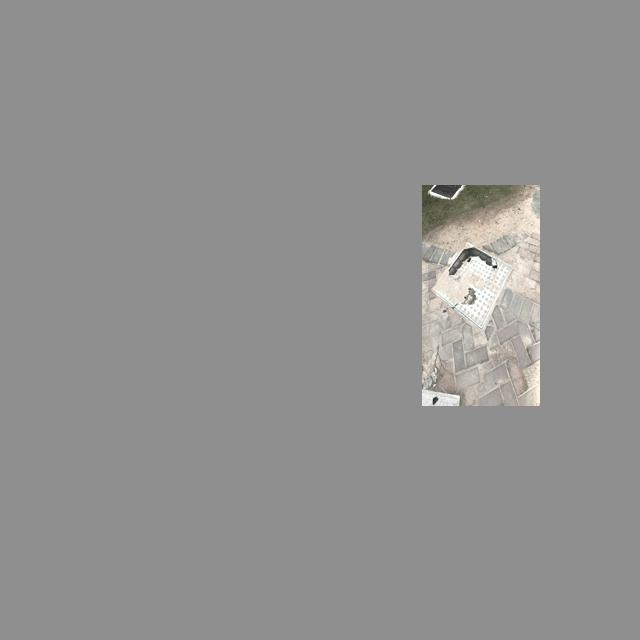broke: (430, 241, 512, 331)
